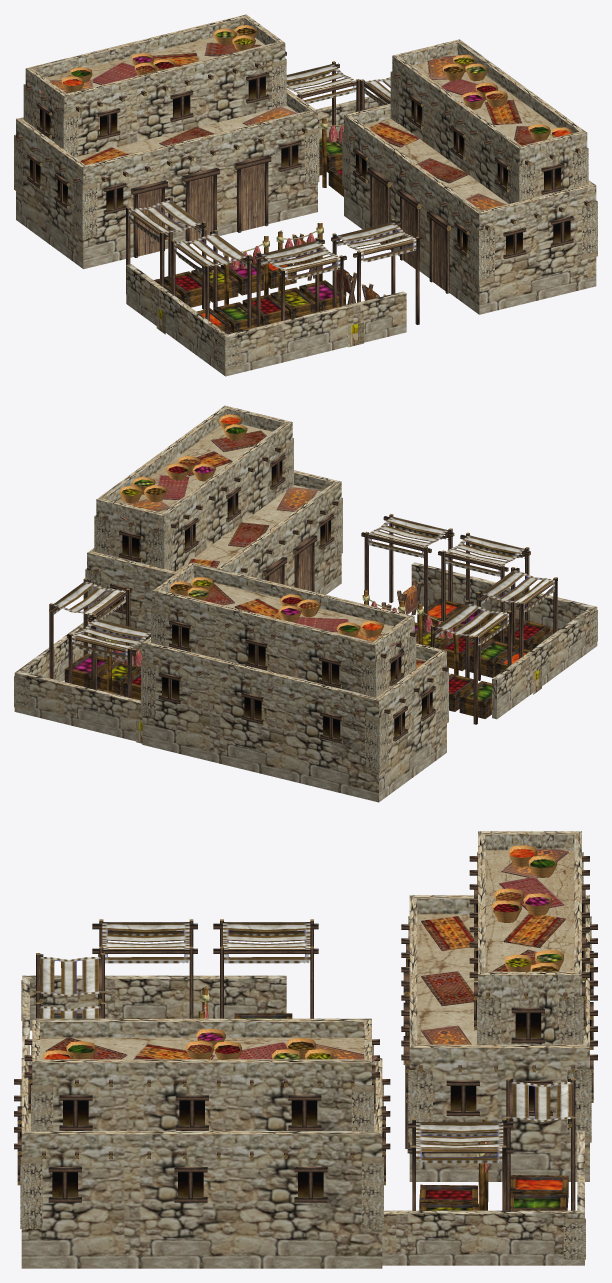
File: market.dae
3 renders of one model, top to bottom at view 1: azimuth 30°, elevation 25°; view 2: azimuth 150°, elevation 25°; view 3: azimuth 270°, elevation 25°, orthographic. The views are drawn at different scales.
Visible parts, largest first — view 1: market; view 2: market; view 3: market.
Boxes of the visible parts, x1,y1,x2,y2 form: market: (14, 14, 597, 376); market: (14, 405, 597, 802); market: (14, 831, 597, 1268).
Size of the model in its own units: 8.22 by 8.24 by 3.26.
